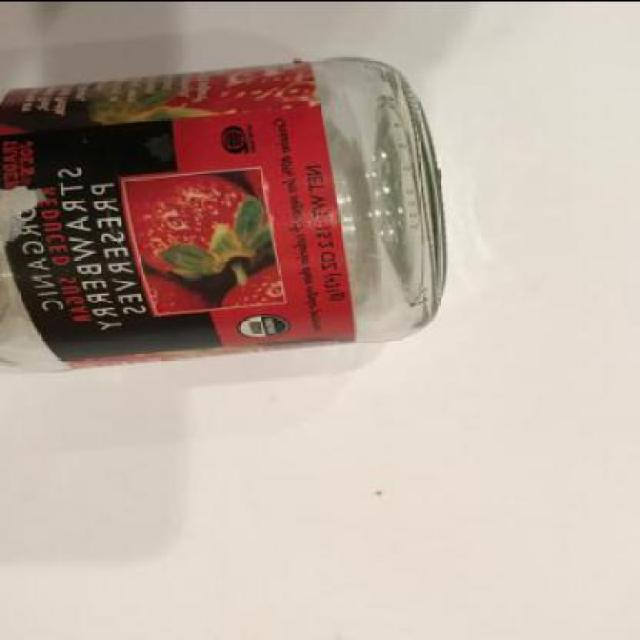glass: (1, 57, 448, 377)
